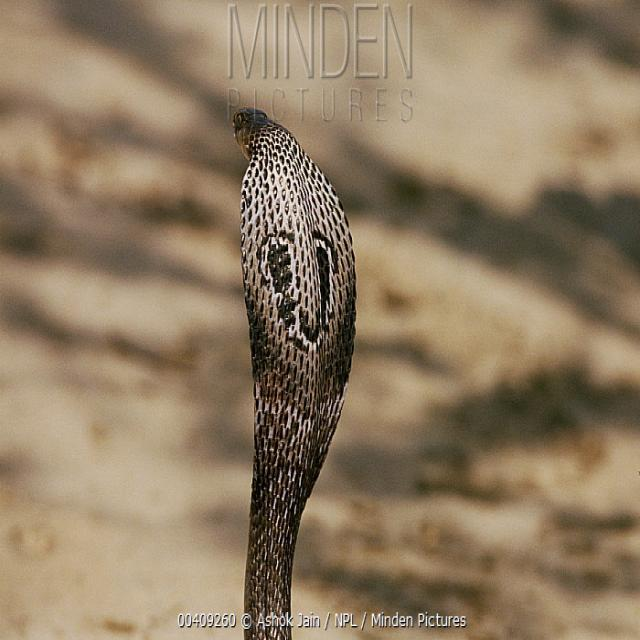Snake: (224, 102, 361, 640)
